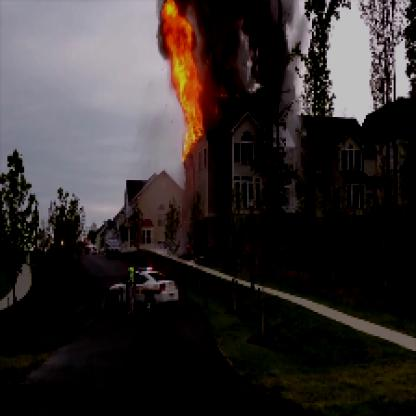Fire: (160, 2, 204, 160)
Smoke: (195, 2, 292, 109)
